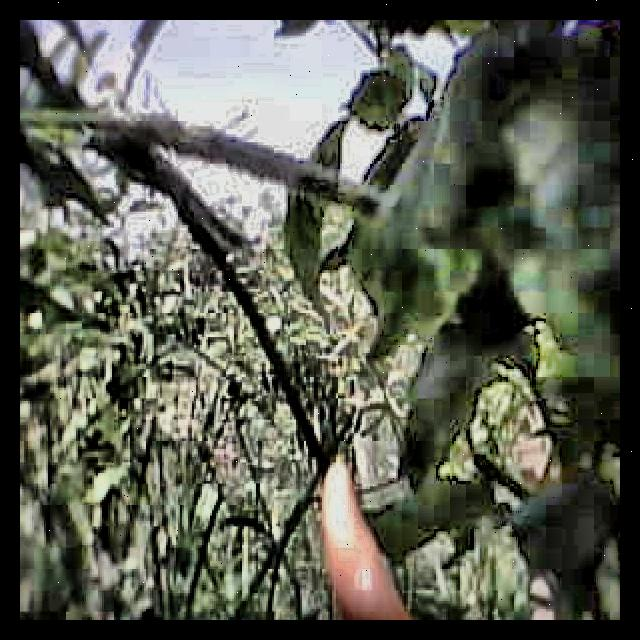Cabai: (309, 462, 406, 620)
